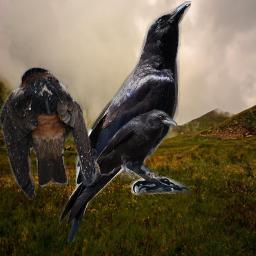Crow: (58, 1, 191, 242), (79, 109, 177, 183)
Swallow: (0, 67, 97, 200)
